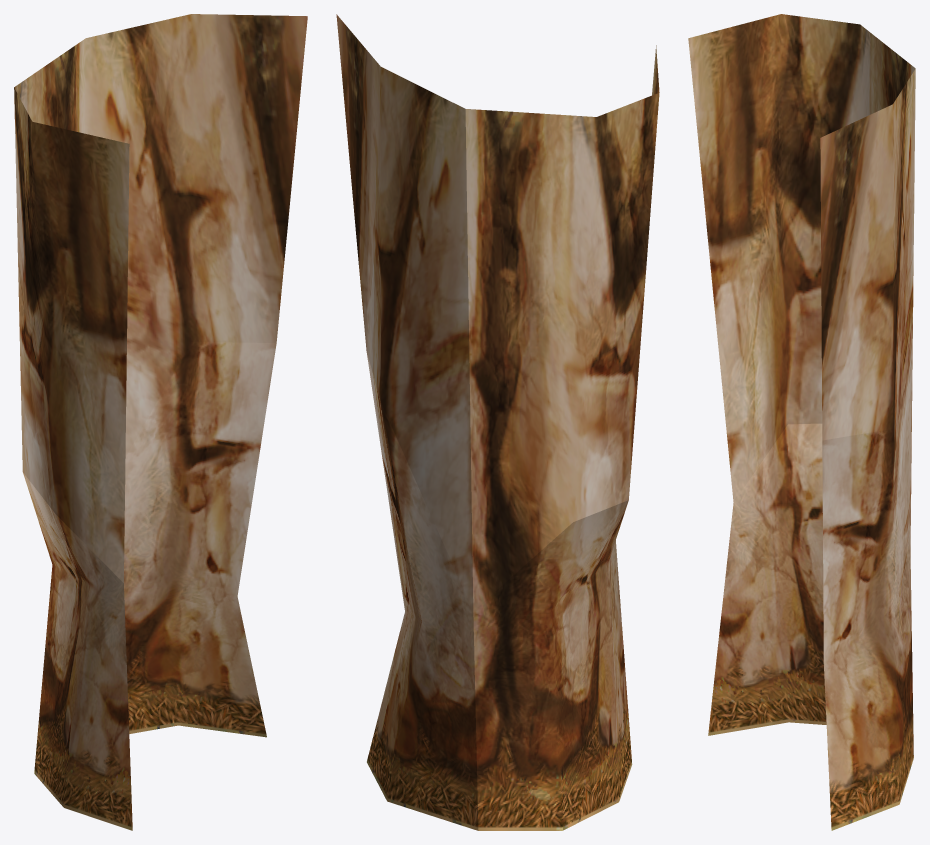
File: des_rock_pillar.fbx
3 renders of one model, left to right at view 1: azimuth 30°, elevation 25°; view 2: azimuth 150°, elevation 25°; view 3: azimuth 270°, elevation 25°, orthographic. The views are drawn at different scales.
Visible parts, largest first — view 1: des_rock_pillar; view 2: des_rock_pillar; view 3: des_rock_pillar.
Boxes of the visible parts, x1=… form: des_rock_pillar: x1=14, y1=14, x2=307, y2=830; des_rock_pillar: x1=336, y1=14, x2=659, y2=830; des_rock_pillar: x1=688, y1=14, x2=915, y2=830.
Bounding box in the file's own units: 653 × 1516 × 440.
